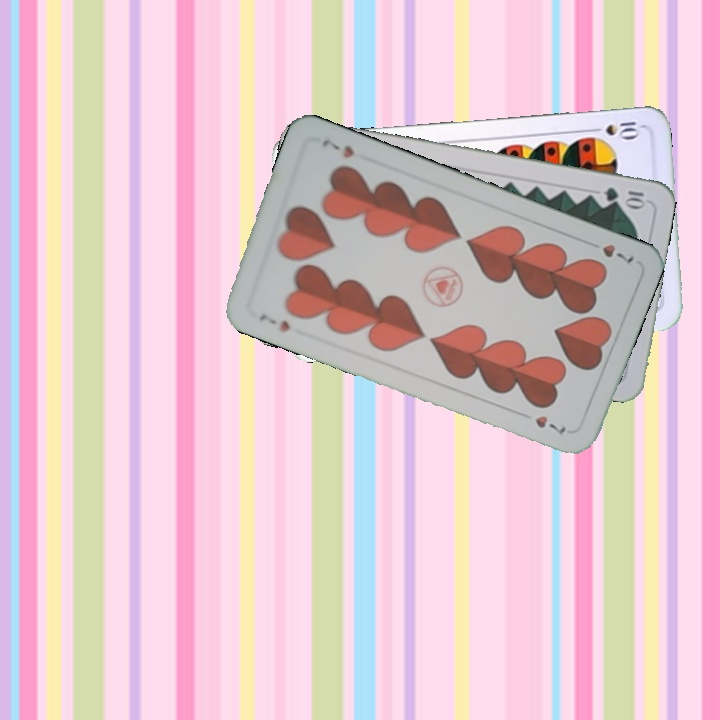G10: (600, 183, 649, 209)
H7: (582, 236, 637, 266), (255, 309, 293, 334)
S10: (585, 117, 643, 140)
